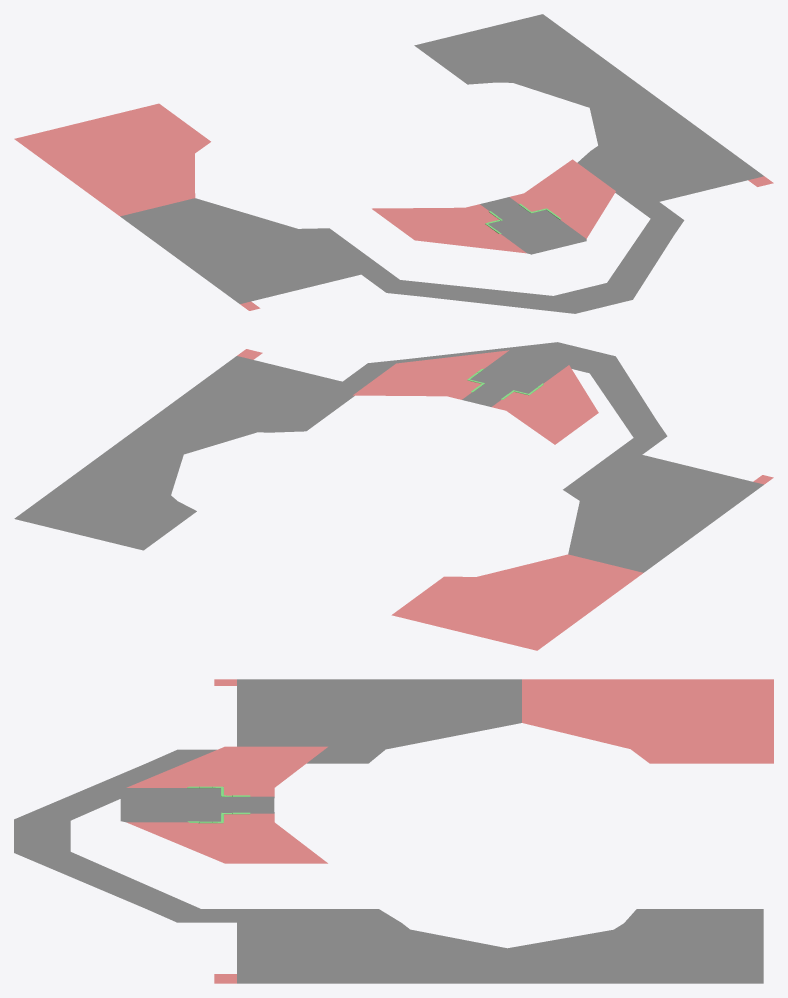
Rendered from SM_ENV_LKNVLD03_Ground_D_01.gltf.
The picture shows the model from 3 angles, top to bottom: view 1: azimuth 30°, elevation 25°; view 2: azimuth 150°, elevation 25°; view 3: azimuth 270°, elevation 25°; orthographic projection. The views are drawn at different scales.
Visible parts, largest first — view 1: SM_ENV_LKNVLD03_Ground_D_01; view 2: SM_ENV_LKNVLD03_Ground_D_01; view 3: SM_ENV_LKNVLD03_Ground_D_01.
Boxes of the visible parts, bbox=[...] form: SM_ENV_LKNVLD03_Ground_D_01: bbox=[14, 14, 773, 313]; SM_ENV_LKNVLD03_Ground_D_01: bbox=[14, 342, 773, 650]; SM_ENV_LKNVLD03_Ground_D_01: bbox=[14, 679, 773, 983].
Size of the model in its own units: 128 by 6.2 by 135.
